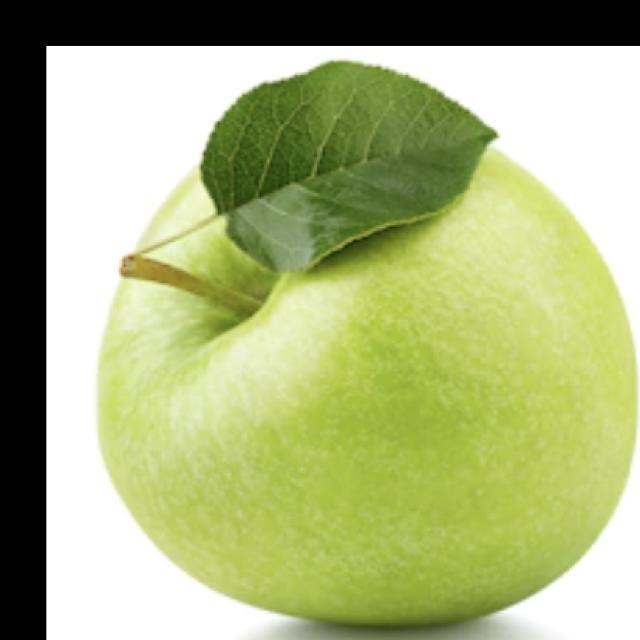Apple: (95, 60, 639, 628)
